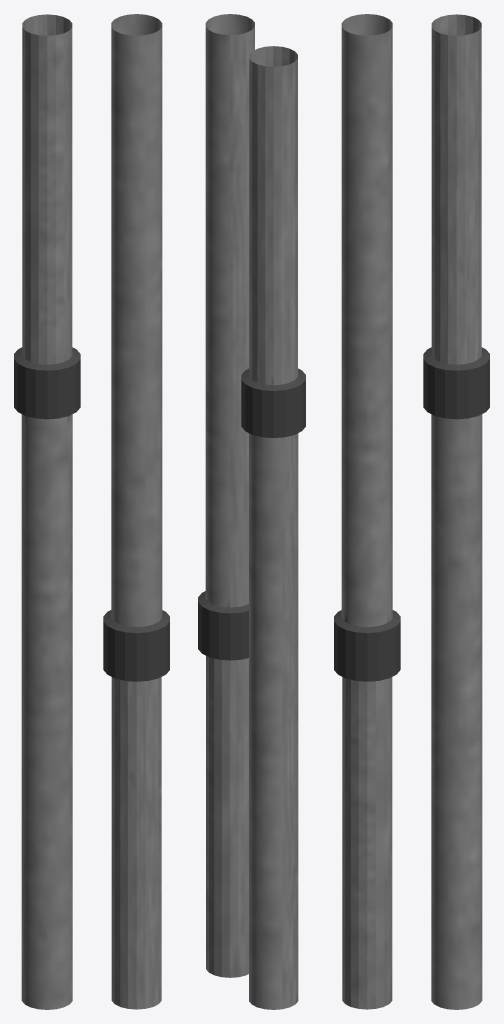
File: HallwayPart_Pipe2.fbx
The picture shows the model from 3 angles, left to right: view 1: azimuth 90°, elevation 25°; view 2: azimuth 210°, elevation 25°; view 3: azimuth 270°, elevation 25°; orthographic projection. The views are drawn at different scales.
Visible parts, largest first — view 1: pipe_006; view 2: pipe_006; view 3: pipe_006.
Part boxes in pixels (x1,y1,x2,y2): pipe_006: (14,14,169,1009); pipe_006: (198,14,305,1009); pipe_006: (334,14,489,1009).
Size of the model in its own units: 1.52 by 24.18 by 3.51.
